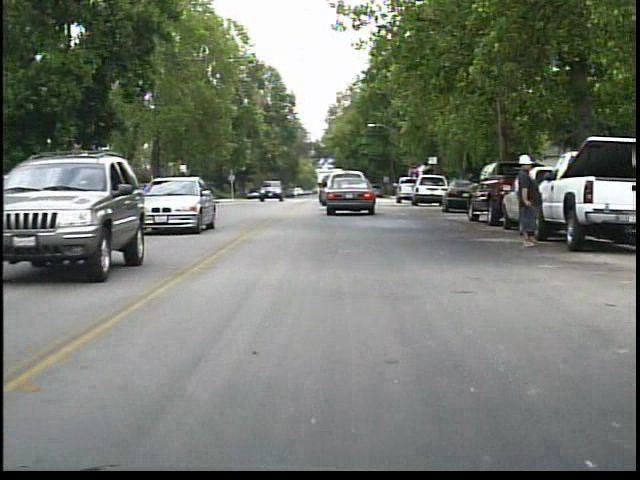person: (507, 148, 546, 250)
